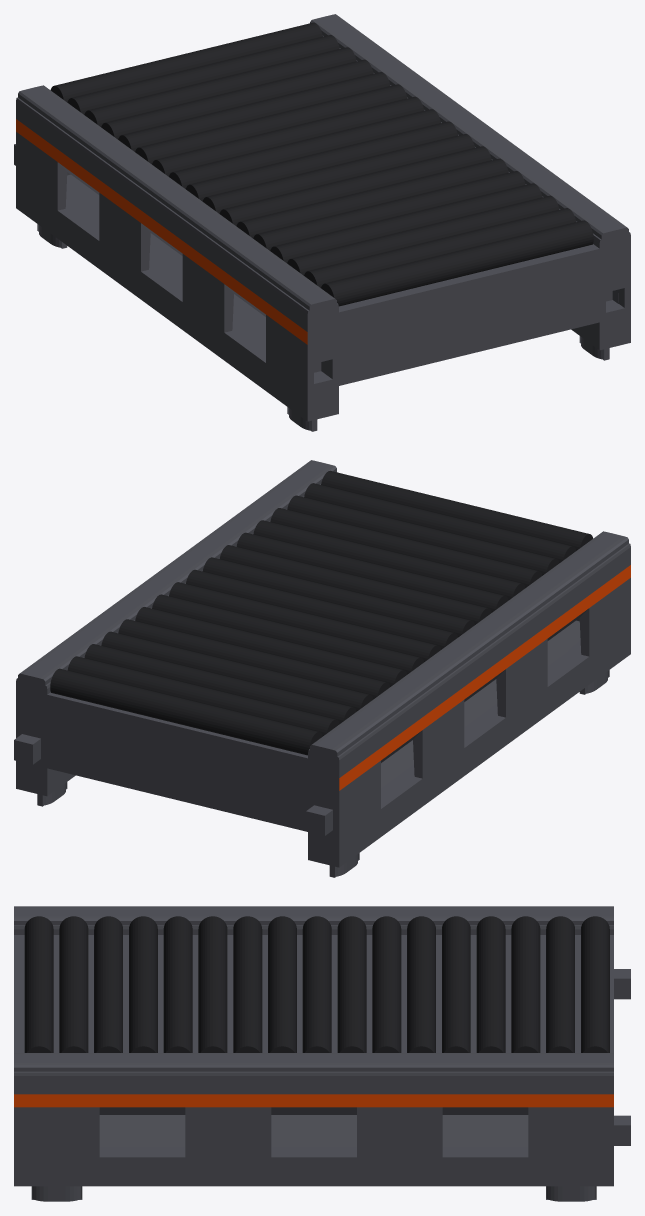
File: Conveyor_Trash_3.fbx
3 renders of one model, top to bottom at view 1: azimuth 30°, elevation 25°; view 2: azimuth 150°, elevation 25°; view 3: azimuth 270°, elevation 25°, orthographic. The views are drawn at different scales.
Visible parts, largest first — view 1: Cube, Cylinder; view 2: Cube, Cylinder; view 3: Cube, Cylinder.
Boxes of the visible parts, x1,y1,x2,y2 form: Cube: (14,14,630,431); Cylinder: (50,22,593,306); Cube: (14,460,630,877); Cylinder: (50,470,593,755); Cube: (14,906,630,1201); Cylinder: (24,916,609,1052).
Bounding box in the file's own units: 62.39 × 25.8 × 100.
